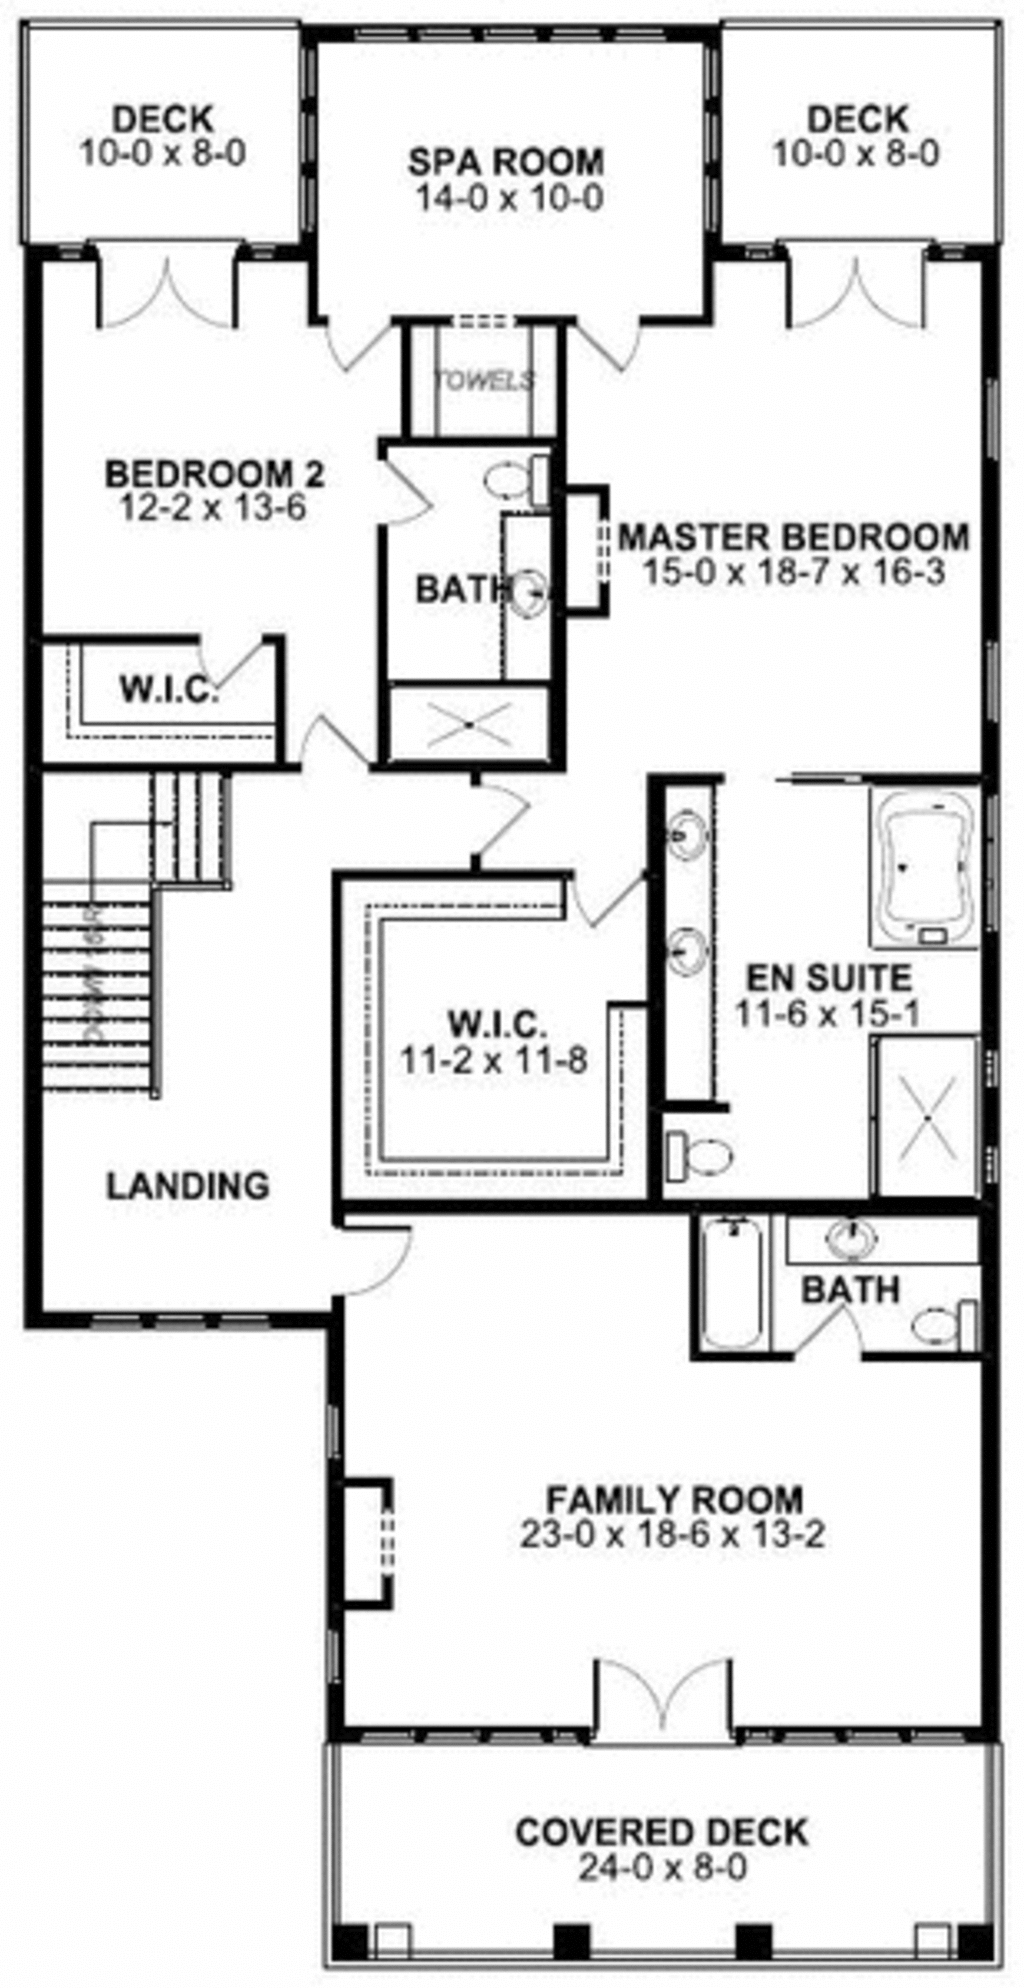door: (81, 232, 249, 345), (775, 236, 933, 345), (585, 1649, 734, 1754), (330, 1223, 417, 1308), (289, 702, 368, 781), (313, 313, 396, 379), (381, 446, 434, 542), (202, 623, 270, 683)
large_sink: (647, 1119, 737, 1198), (477, 436, 560, 508), (900, 1288, 980, 1358)
small_sink: (781, 1200, 953, 1271), (660, 787, 718, 996), (505, 516, 556, 676)
stairs: (43, 764, 238, 1111)
tub: (866, 775, 980, 957), (696, 1198, 777, 1364)
